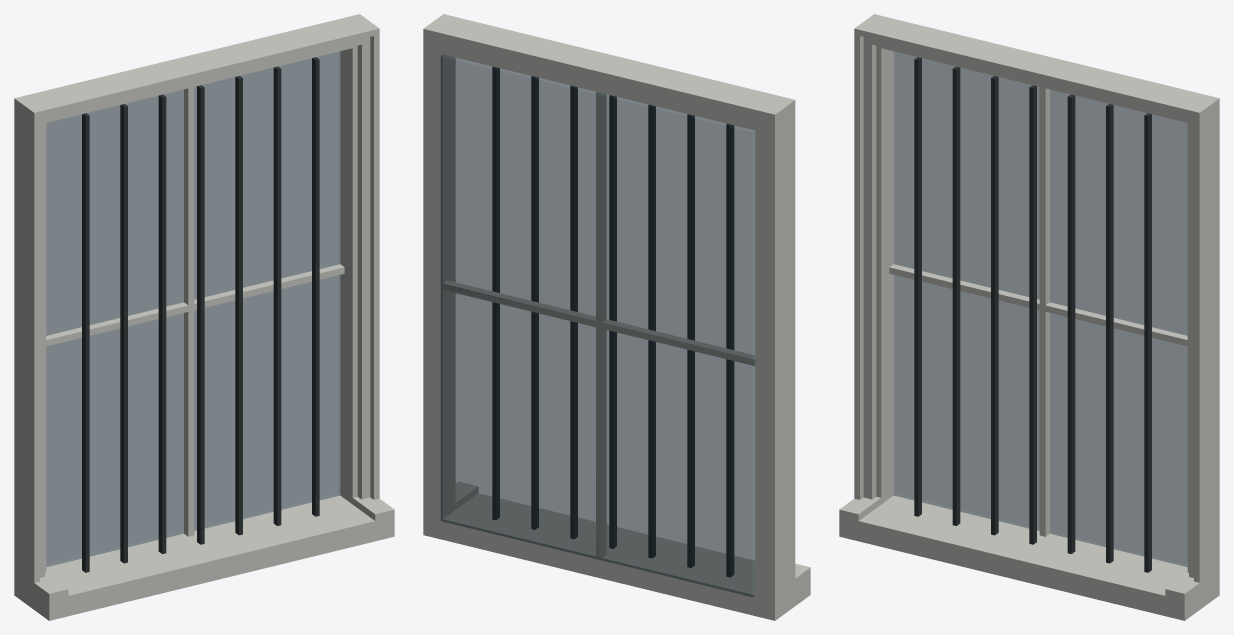
File: clasico_rectangle_con_reja.glb
3 views of the same model, side by side, from view 1: azimuth 30°, elevation 25°; view 2: azimuth 150°, elevation 25°; view 3: azimuth 330°, elevation 25° (orthographic).
Parts seen in each view (by area): view 1: window_glass#0001, window_grille#0001, window_reveal#0001, window_sill#0001, window_profile#0020, window_mullion#0001, window_profile#0001, window_profile#0009, window_profile#0017, window_profile#0010, window_profile#0019, window_profile#0018 (+11 smaller); view 2: window_glass#0001, window_reveal#0001, window_grille#0001, window_profile#0020, window_mullion#0001, window_sill#0001, window_profile#0001; view 3: window_glass#0001, window_grille#0001, window_reveal#0001, window_sill#0001, window_profile#0020, window_mullion#0001, window_profile#0009, window_profile#0001, window_profile#0017, window_profile#0010, window_profile#0019, window_profile#0018 (+11 smaller).
Boxes of the visible parts, left/top/right/bottom form: window_glass#0001: left=46, top=51, right=340, bottom=566; window_grille#0001: left=82, top=57, right=319, bottom=572; window_reveal#0001: left=14, top=14, right=370, bottom=602; window_sill#0001: left=21, top=494, right=394, bottom=620; window_profile#0020: left=24, top=22, right=379, bottom=582; window_mullion#0001: left=46, top=87, right=344, bottom=536; window_profile#0001: left=45, top=46, right=353, bottom=576; window_profile#0009: left=43, top=42, right=363, bottom=577; window_profile#0017: left=38, top=34, right=375, bottom=581; window_profile#0010: left=41, top=39, right=365, bottom=577; window_profile#0019: left=35, top=30, right=378, bottom=582; window_profile#0018: left=37, top=32, right=376, bottom=581; window_glass#0001: left=440, top=54, right=755, bottom=596; window_reveal#0001: left=423, top=20, right=786, bottom=620; window_grille#0001: left=492, top=67, right=733, bottom=577; window_profile#0020: left=434, top=14, right=795, bottom=611; window_mullion#0001: left=443, top=92, right=755, bottom=557; window_sill#0001: left=455, top=482, right=810, bottom=605; window_profile#0001: left=454, top=57, right=754, bottom=584; window_glass#0001: left=893, top=51, right=1187, bottom=566; window_grille#0001: left=914, top=57, right=1151, bottom=572; window_reveal#0001: left=863, top=14, right=1219, bottom=603; window_sill#0001: left=839, top=494, right=1208, bottom=620; window_profile#0020: left=854, top=22, right=1208, bottom=609; window_mullion#0001: left=889, top=87, right=1187, bottom=536; window_profile#0009: left=870, top=42, right=1190, bottom=577; window_profile#0001: left=880, top=46, right=1188, bottom=572; window_profile#0017: left=858, top=34, right=1195, bottom=581; window_profile#0010: left=868, top=39, right=1192, bottom=577; window_profile#0019: left=855, top=30, right=1198, bottom=582; window_profile#0018: left=857, top=32, right=1196, bottom=581.
Bounding box in the file's own units: 1.6 × 2.2 × 0.3.
